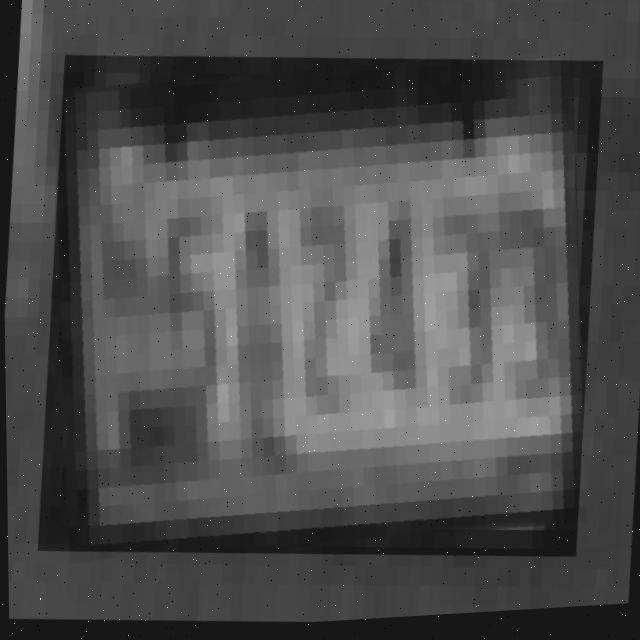LicensePlate: (30, 31, 608, 588)
